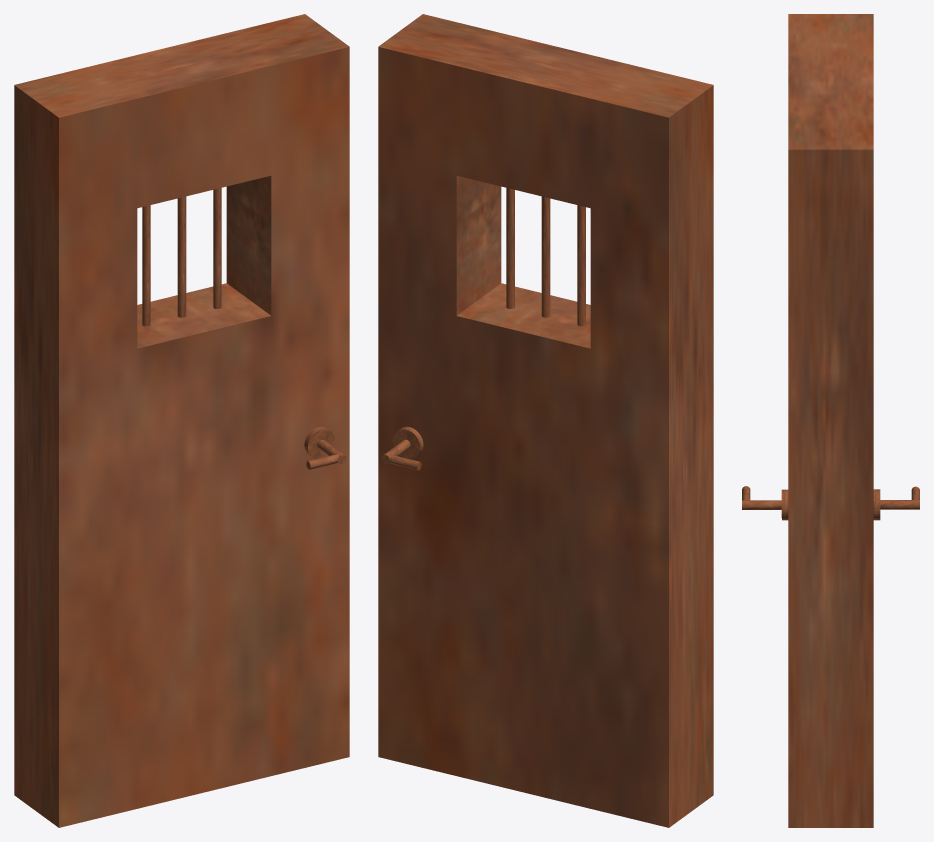
File: PrisonDoor2.fbx
3 views of the same model, side by side, from view 1: azimuth 30°, elevation 25°; view 2: azimuth 150°, elevation 25°; view 3: azimuth 270°, elevation 25° (orthographic). The views are drawn at different scales.
Parts seen in each view (by area): view 1: Cube, Cylinder, Cylinder.002, Cylinder.001, DoorHandleBase.001; view 2: Cube, Cylinder, Cylinder.002, Cylinder.001, DoorHandleBase; view 3: Cube, DoorHandleStem, DoorHandleStem.001.
Part boxes in pixels (left/top/right/bottom): Cube: left=14, top=14, right=349, bottom=827; Cylinder: left=177, top=196, right=186, bottom=317; Cylinder.002: left=142, top=205, right=150, bottom=326; Cylinder.001: left=213, top=188, right=221, bottom=308; DoorHandleBase.001: left=304, top=427, right=335, bottom=458; Cube: left=378, top=14, right=713, bottom=827; Cylinder: left=541, top=196, right=550, bottom=317; Cylinder.002: left=577, top=205, right=585, bottom=326; Cylinder.001: left=506, top=188, right=514, bottom=308; DoorHandleBase: left=392, top=426, right=423, bottom=459; Cube: left=788, top=14, right=873, bottom=827; DoorHandleStem: left=880, top=500, right=919, bottom=509; DoorHandleStem.001: left=742, top=500, right=781, bottom=509.
Bounding box in the file's own units: 180 × 420 × 99.82.
